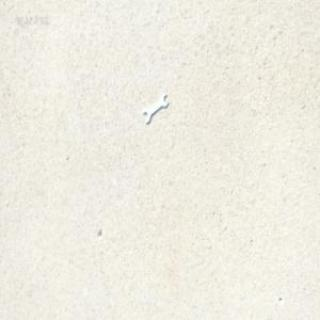Wrenchtrack_idkeyframe: (141, 92, 168, 124)
